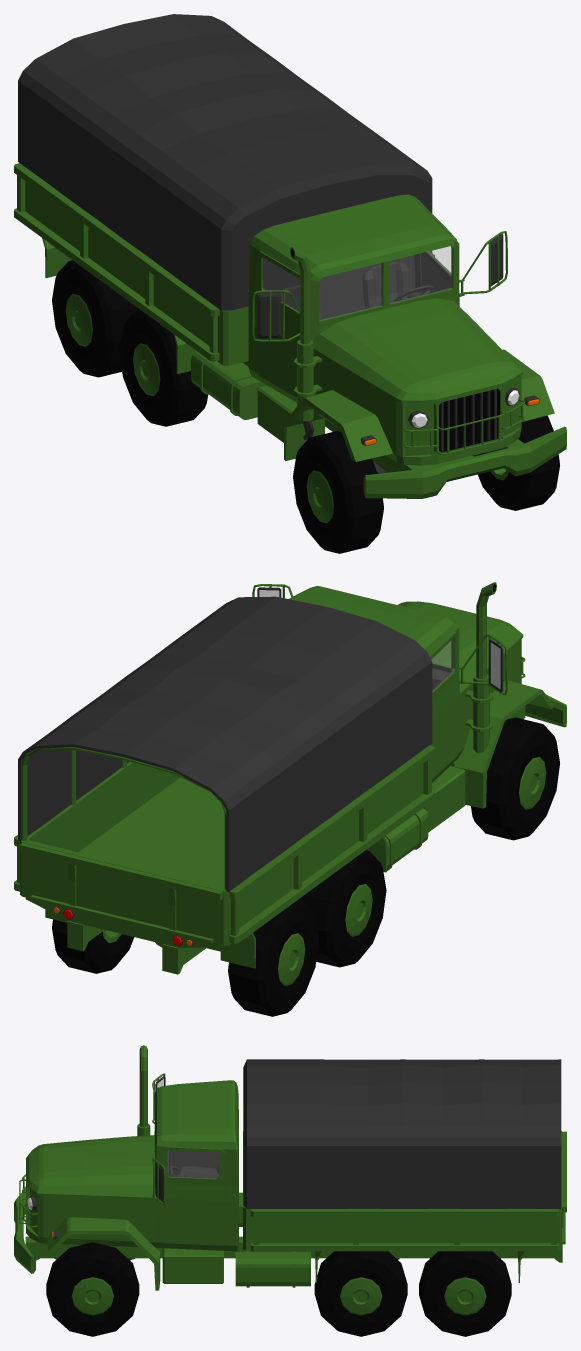
The picture shows the model from 3 angles, top to bottom: view 1: azimuth 30°, elevation 25°; view 2: azimuth 150°, elevation 25°; view 3: azimuth 270°, elevation 25°; orthographic projection. The views are drawn at different scales.
Visible parts, largest first — view 1: Plane, Cylinder.003, Cylinder.002, Cylinder.001, Plane.007, Plane.002, Plane.006, Cylinder, Cylinder.006, Plane.008; view 2: Plane, Plane.004, Cylinder.003, Cylinder.002, Cylinder.001, Plane.006, Cylinder.006, Cylinder.005; view 3: Plane, Cylinder, Cylinder.004, Cylinder.005, Plane.008, Cylinder.006, Plane.006, Plane.007, Plane.004.
Part boxes in pixels (x1,y1,x2,y2): Plane: (14,14,566,498); Cylinder.003: (293,431,383,553); Cylinder.002: (52,260,139,377); Cylinder.001: (119,309,208,426); Plane.007: (264,246,451,320); Plane.002: (320,247,451,319); Plane.006: (256,251,300,397); Cylinder: (478,415,559,510); Cylinder.006: (290,247,322,440); Plane.008: (421,238,456,293); Plane: (14,584,566,974); Plane.004: (19,842,222,943); Cylinder.003: (471,717,559,840); Cylinder.002: (228,899,318,1016); Cylinder.001: (298,850,386,967); Plane.006: (429,631,458,779); Cylinder.006: (465,582,496,786); Cylinder.005: (52,919,134,973); Plane: (14,1059,562,1290); Cylinder: (46,1242,139,1336); Cylinder.004: (314,1251,407,1336); Cylinder.005: (419,1251,511,1336); Plane.008: (161,1146,225,1245); Cylinder.006: (137,1045,150,1135); Plane.006: (171,1150,218,1176); Plane.007: (167,1150,218,1178); Plane.004: (561,1131,566,1244).
Bounding box in the file's own units: 293 × 306 × 710.
